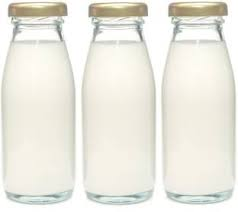milk: (157, 1, 233, 198), (2, 2, 78, 197), (80, 2, 154, 201)
